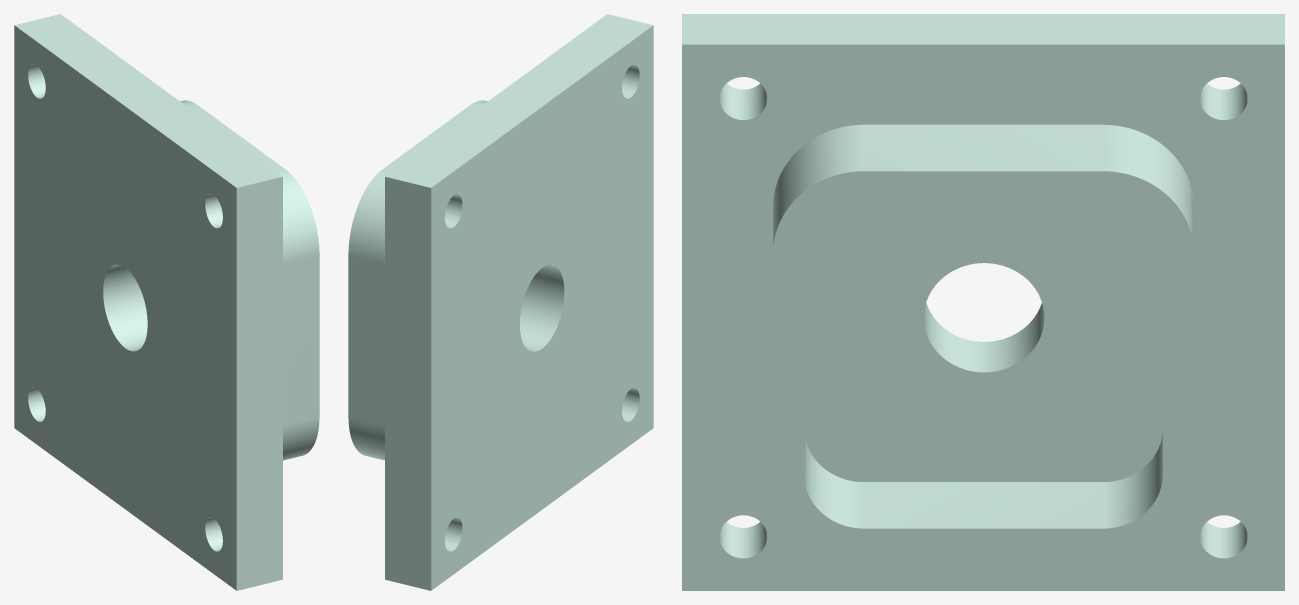
The model's file is expected.gltf.
The picture shows the model from 3 angles, left to right: view 1: azimuth 30°, elevation 25°; view 2: azimuth 150°, elevation 25°; view 3: azimuth 270°, elevation 25°; orthographic projection. The views are drawn at different scales.
Parts seen in each view (by area): view 1: Renderer Node; view 2: Renderer Node; view 3: Renderer Node.
Part boxes in pixels (x1=…): Renderer Node: x1=14, y1=14, x2=319, y2=590; Renderer Node: x1=348, y1=14, x2=653, y2=590; Renderer Node: x1=682, y1=14, x2=1284, y2=590.
Bounding box in the file's own units: 0.4531 × 1.5 × 1.5.
